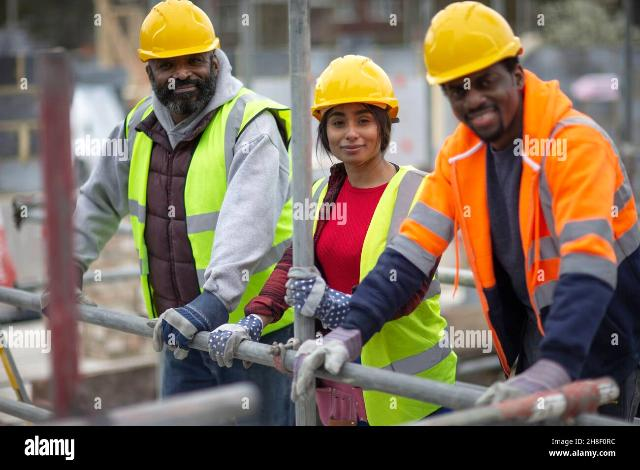helmet: (422, 3, 524, 78), (305, 50, 401, 114), (129, 1, 223, 59)
vest: (124, 102, 286, 328), (441, 120, 631, 294), (314, 178, 450, 416)
